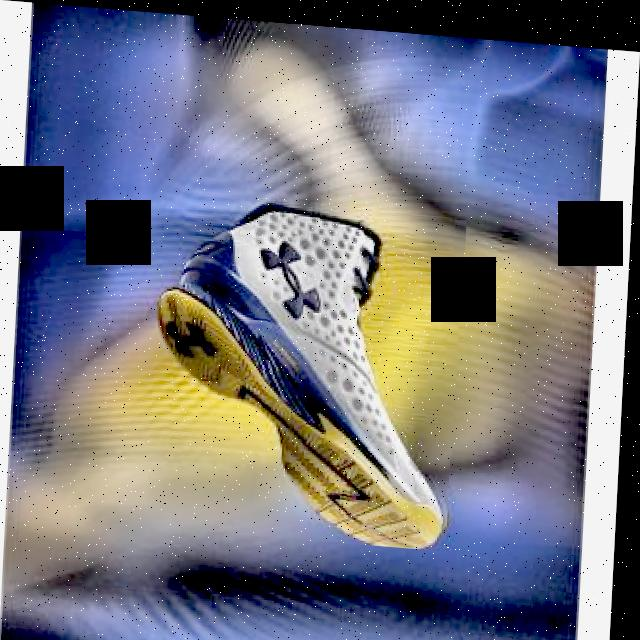shoe: (151, 186, 469, 544)
